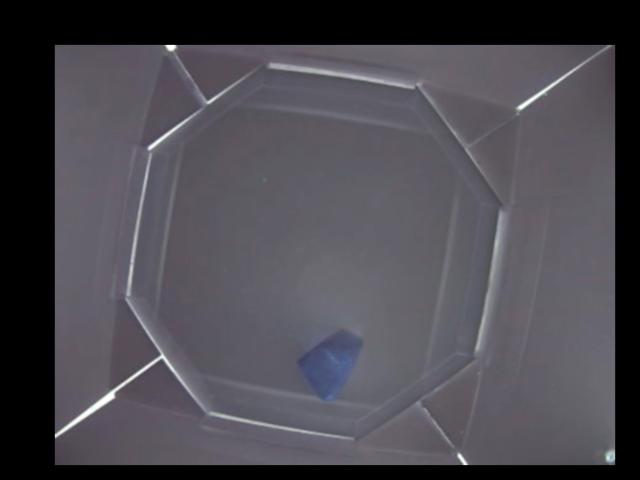Mooli: (299, 327, 365, 405)
